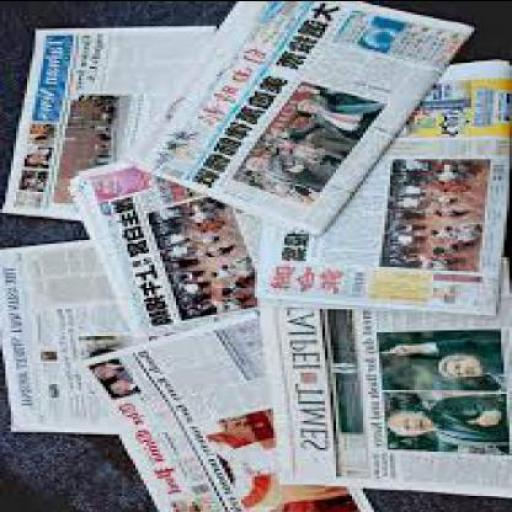paper: (126, 1, 478, 233), (70, 308, 374, 510), (260, 254, 509, 494), (0, 22, 209, 218), (0, 234, 201, 432), (65, 158, 266, 338)
